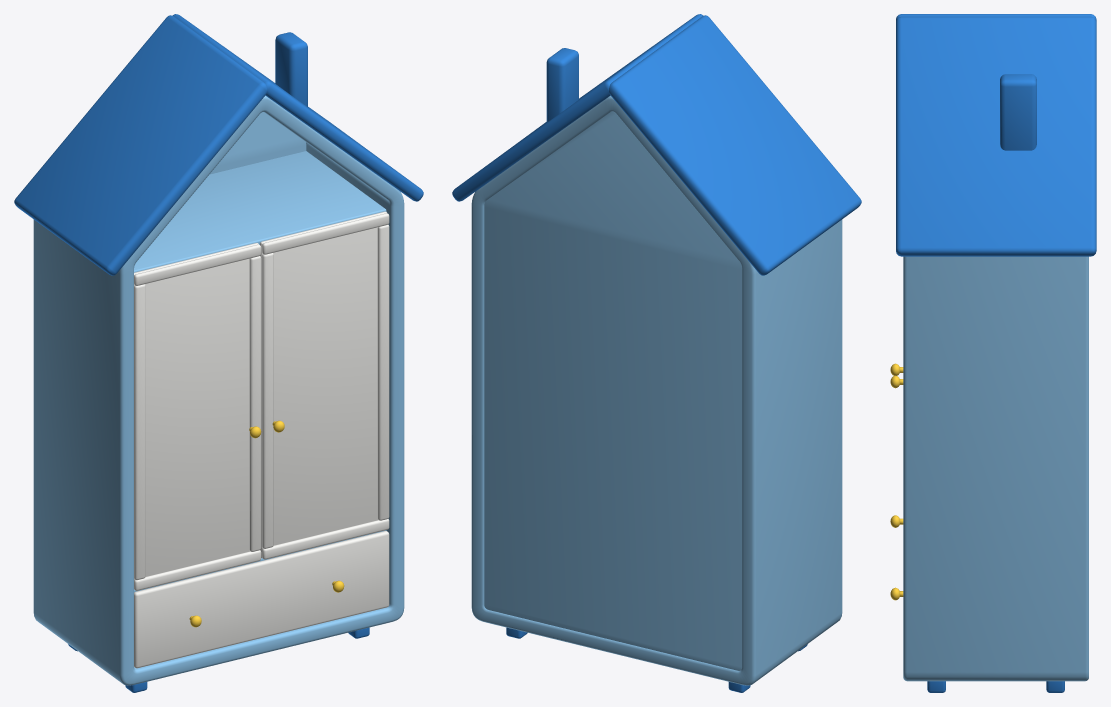
Rendered from guarda_roupa_infantil_casinha_azul.glb.
3 renders of one model, left to right at view 1: azimuth 30°, elevation 25°; view 2: azimuth 150°, elevation 25°; view 3: azimuth 270°, elevation 25°, orthographic. The views are drawn at different scales.
Visible parts, largest first — view 1: guarda_roupa_infantil_casinha_azul, porta_2, porta_1, gaveta_1; view 2: guarda_roupa_infantil_casinha_azul; view 3: guarda_roupa_infantil_casinha_azul.
Part boxes in pixels (left/top/right/bottom): guarda_roupa_infantil_casinha_azul: left=14, top=14, right=423, bottom=692; porta_2: left=260, top=211, right=389, bottom=559; porta_1: left=134, top=243, right=261, bottom=590; gaveta_1: left=134, top=531, right=389, bottom=668; guarda_roupa_infantil_casinha_azul: left=452, top=14, right=861, bottom=692; guarda_roupa_infantil_casinha_azul: left=896, top=14, right=1096, bottom=692.
Bounding box in the file's own units: 1.03 × 1.83 × 0.5546.
Materials: 1 (1 with a texture image).
